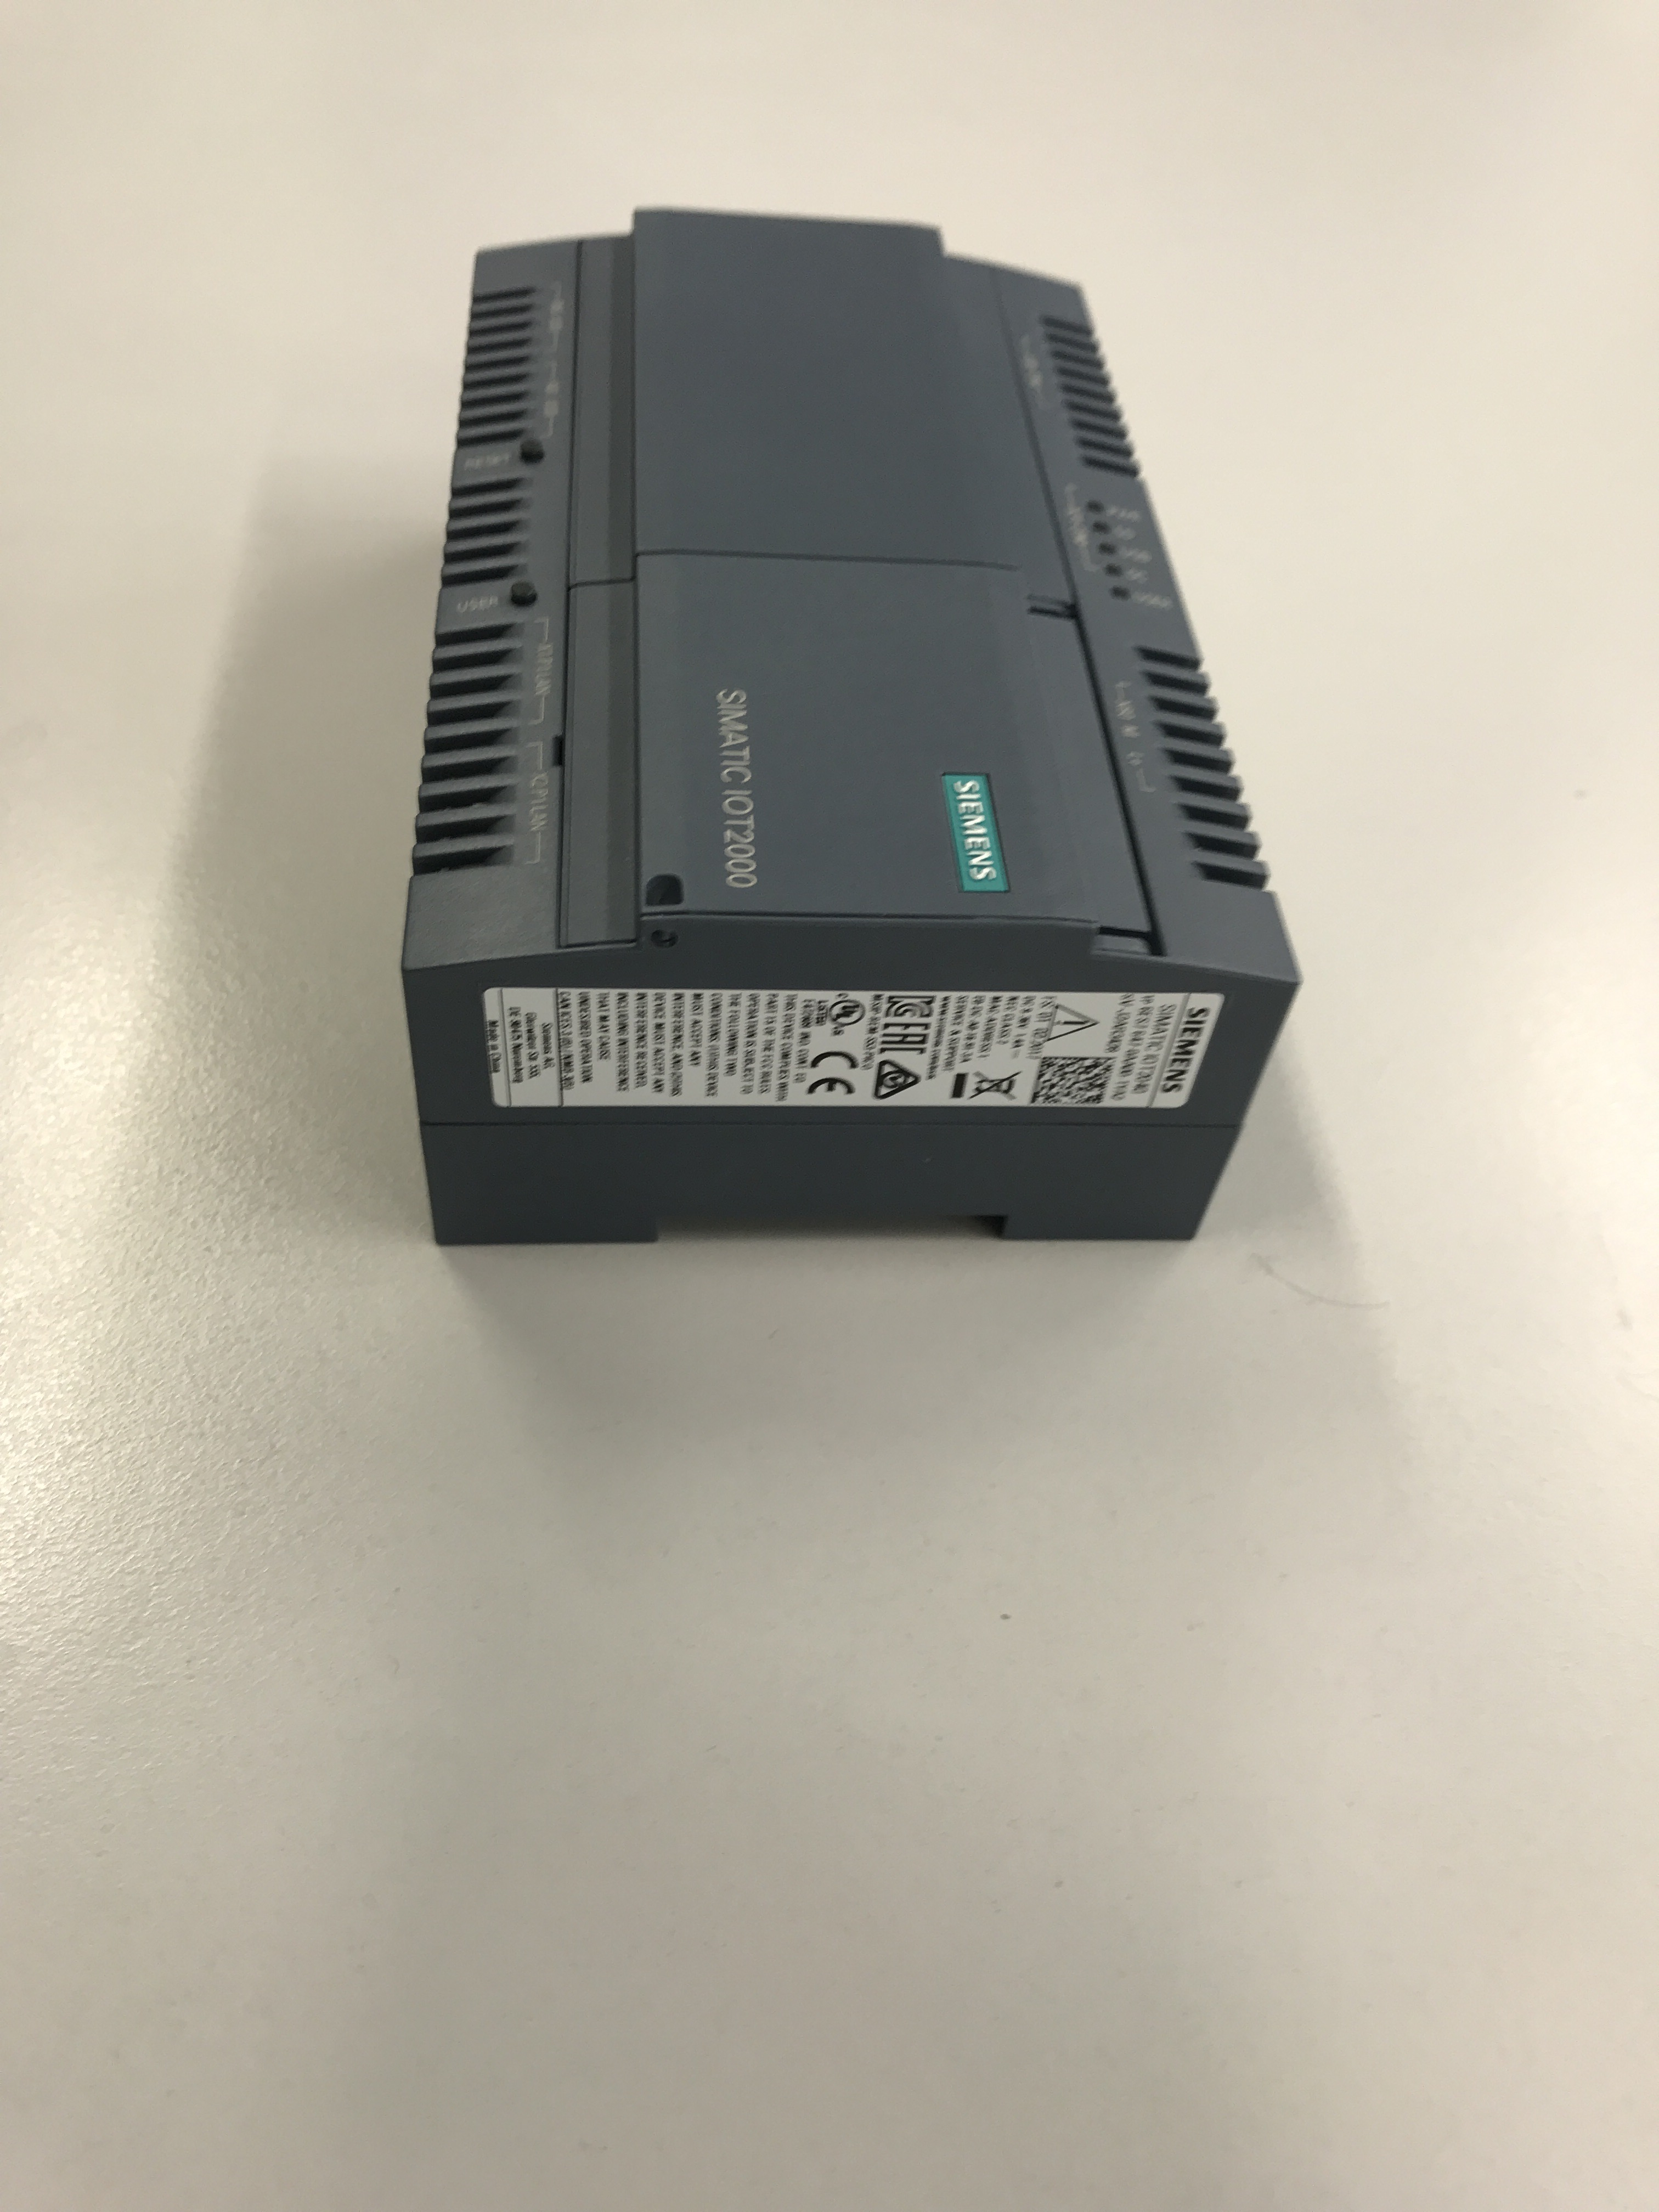device: (396, 209, 1305, 1251)
